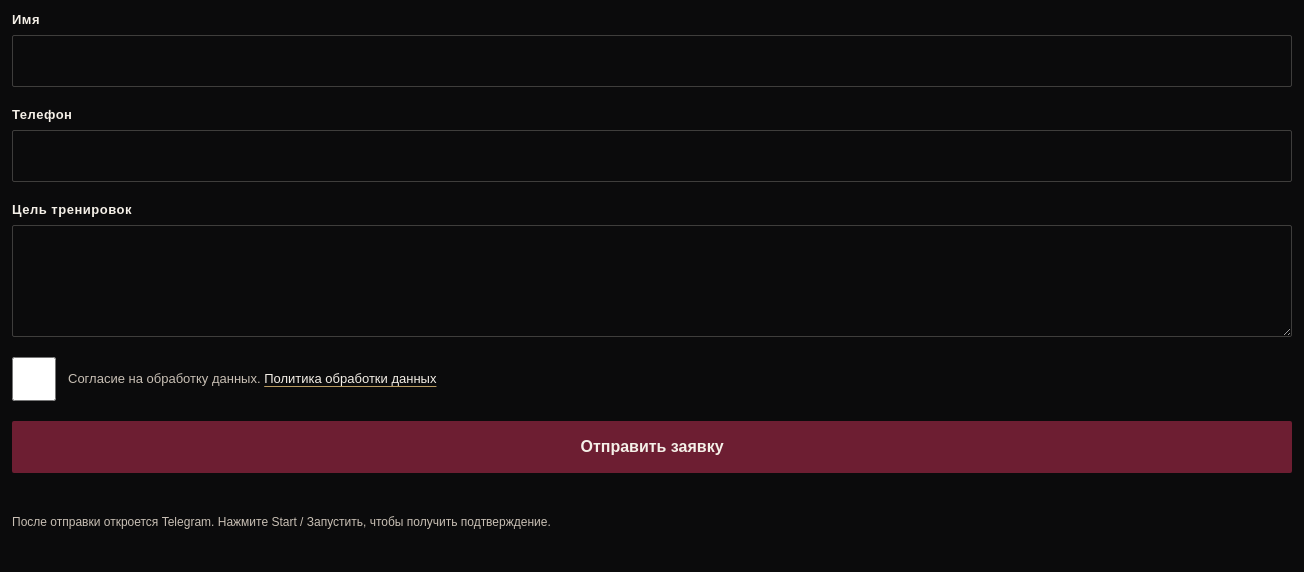
Test: LeadForm › retains values and stays on page for HTTP 422
The image size is (1304, 572).
Step 1. Type "Анна Иванова" into the field labelled "Имя" → (652, 61), box left=12, top=35, right=1292, bottom=87
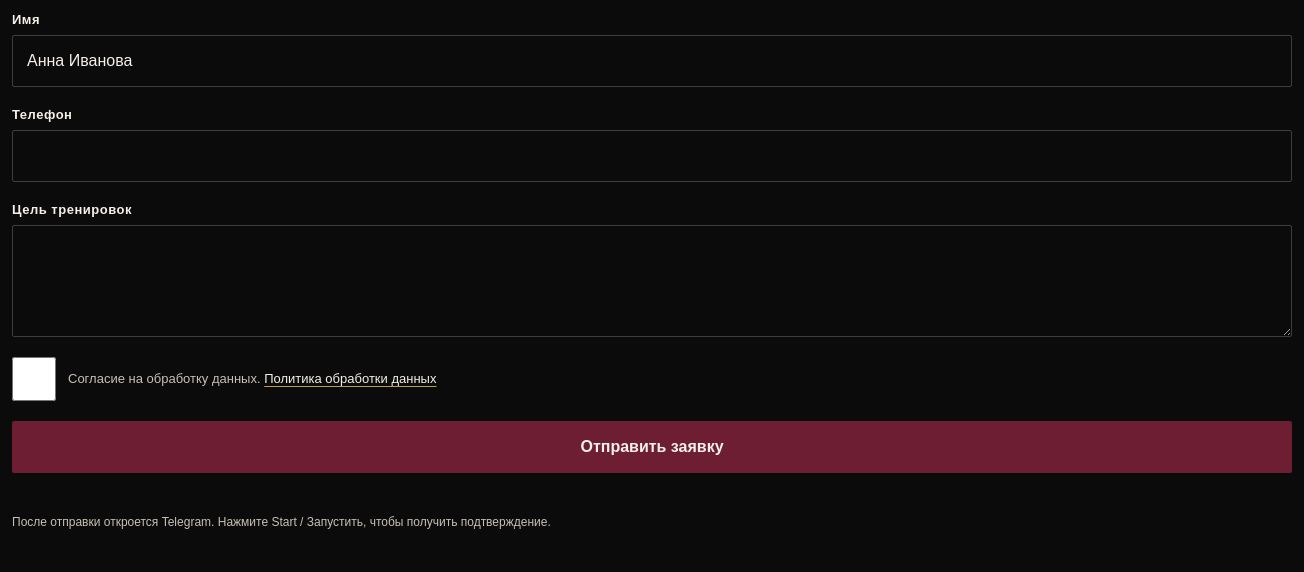
Step 2. Type "+7 900 000-00-00" into the field labelled "Телефон" → (652, 156), box left=12, top=130, right=1292, bottom=182
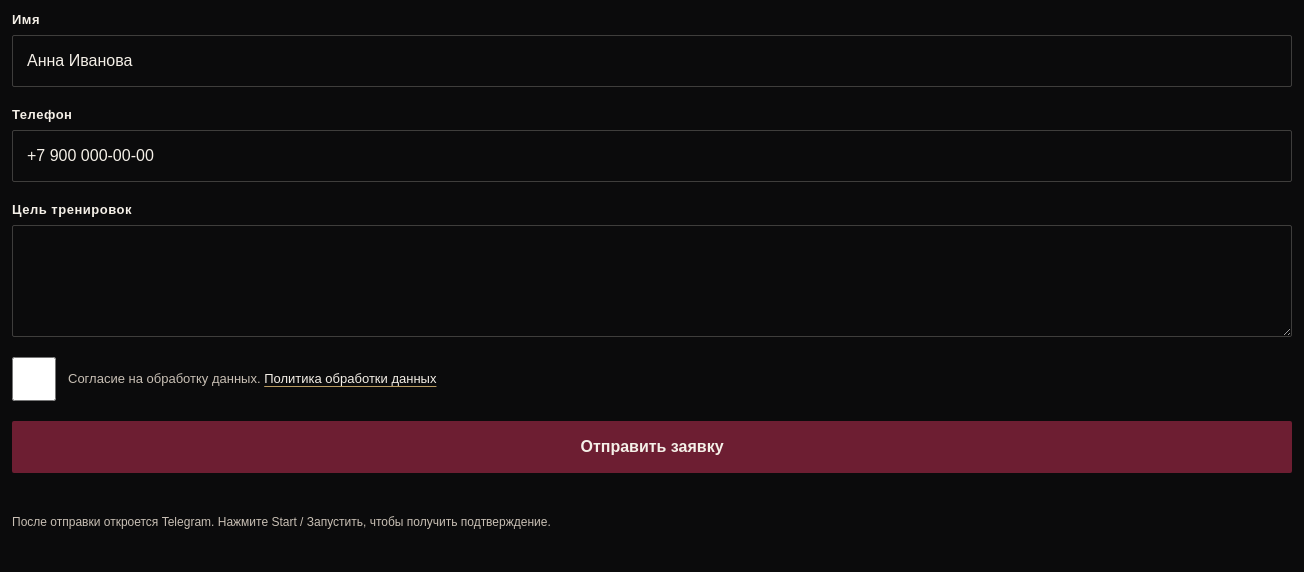
Step 3. Click the checkbox labelled "Согласие на обработку данных. Политика обработки данных" → click(34, 379), box left=12, top=357, right=56, bottom=401
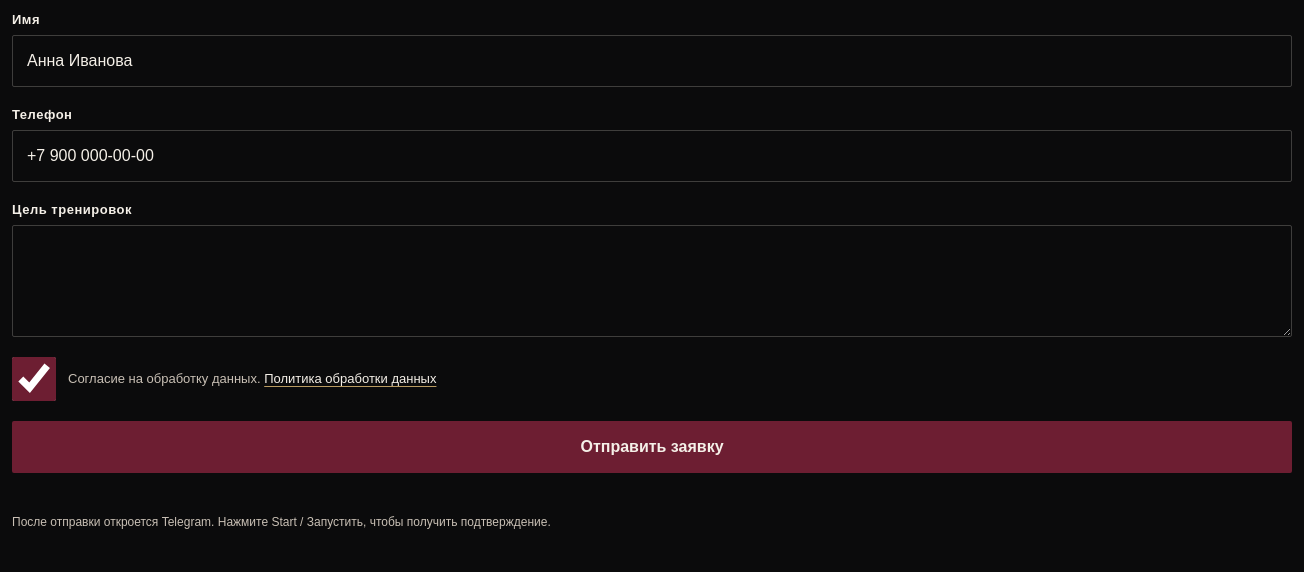
Step 4. Click the button "Отправить заявку" → click(652, 447), box left=12, top=421, right=1292, bottom=473
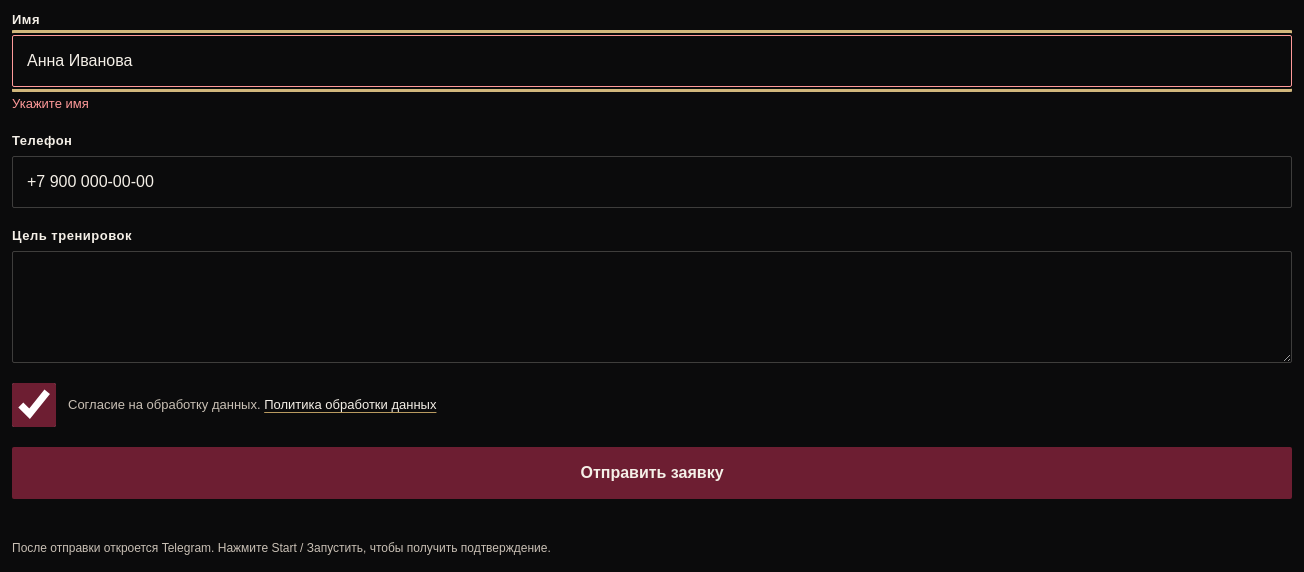
Now the text "Укажите имя" is shown, box left=12, top=96, right=89, bottom=111
